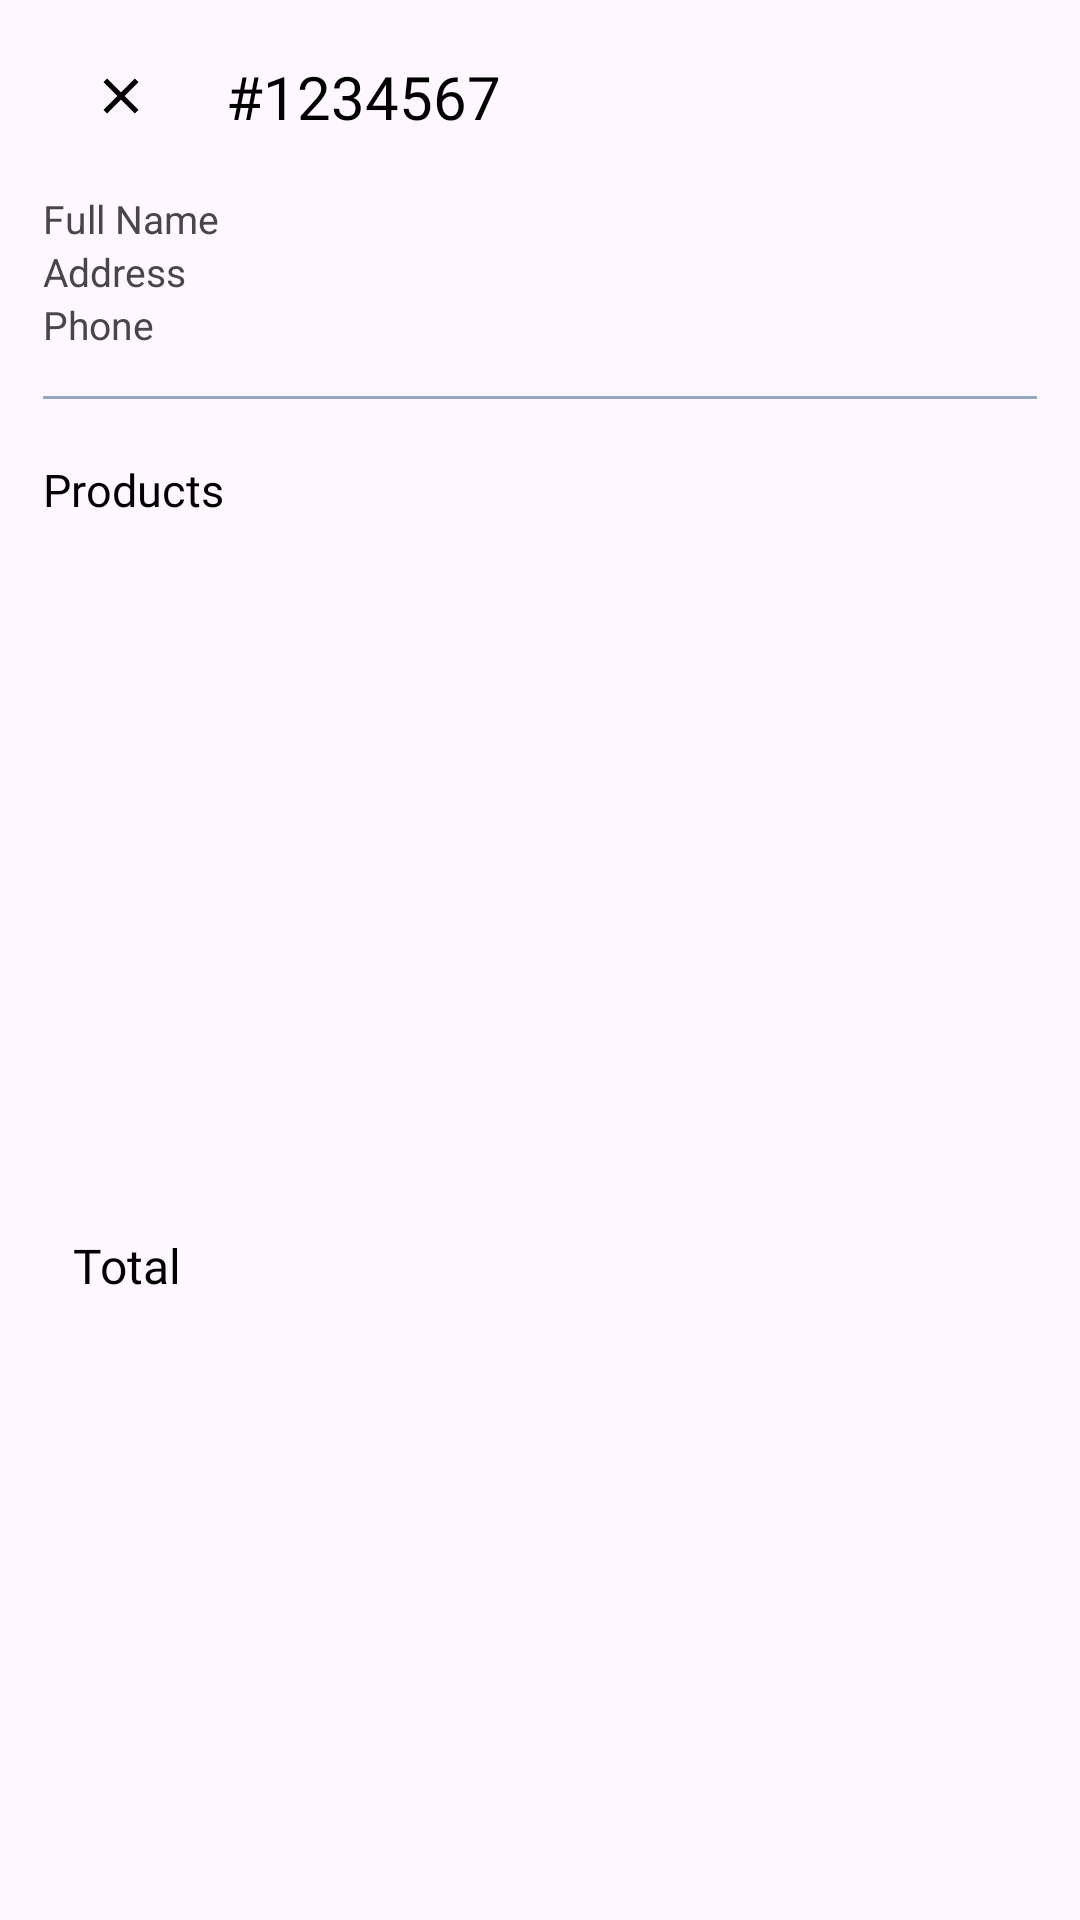

Screen size 1080*1920. Icon name, then its box in pixels as (x1, y1, x2, y2):
close: (103, 78, 139, 114)
